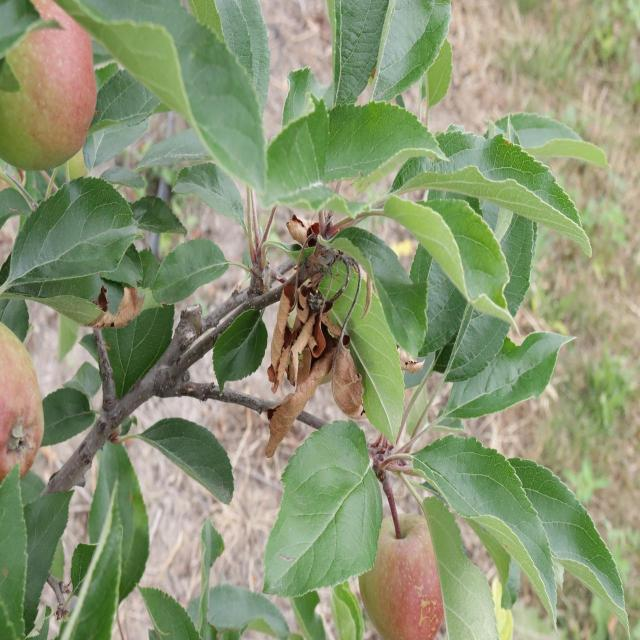-FireBlight-: (276, 216, 356, 422)
